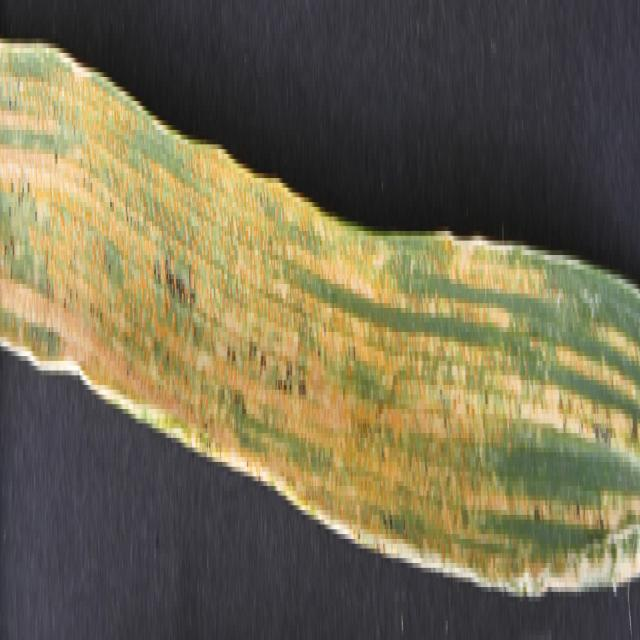leaf rust: (1, 53, 636, 573)
